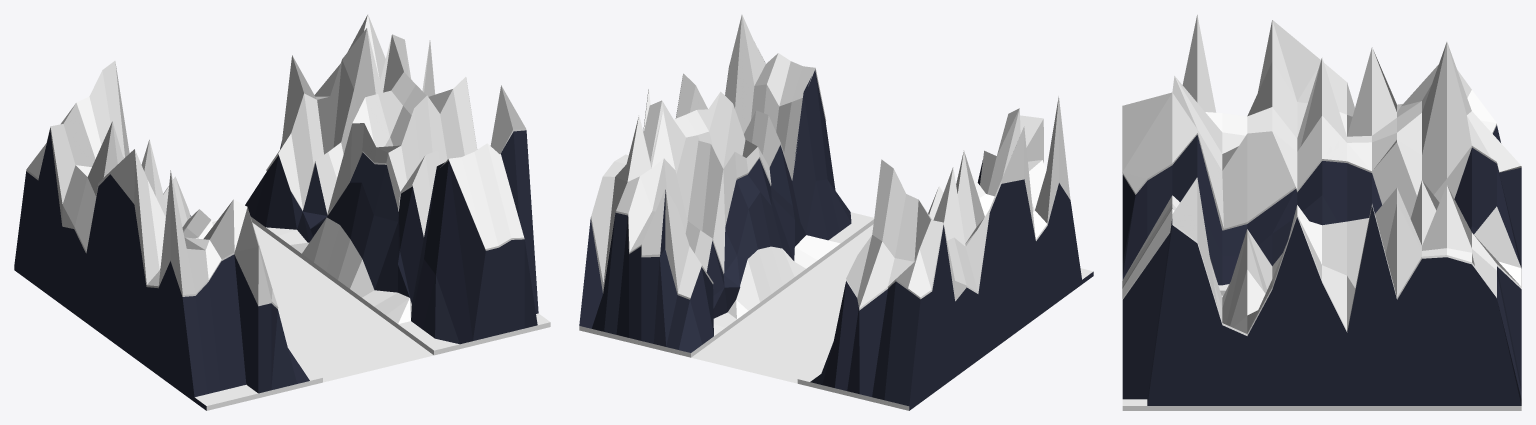
The model's file is SideMountain2.fbx.
The picture shows the model from 3 angles, left to right: view 1: azimuth 30°, elevation 25°; view 2: azimuth 150°, elevation 25°; view 3: azimuth 270°, elevation 25°; orthographic projection. The views are drawn at different scales.
Visible parts, largest first — view 1: Landscape.021; view 2: Landscape.021; view 3: Landscape.021.
Part boxes in pixels (<box>): Landscape.021: <box>14,14,550,410</box>; Landscape.021: <box>579,14,1093,410</box>; Landscape.021: <box>1122,15,1521,410</box>.
Size of the model in its own units: 18600 by 11381 by 18004.
